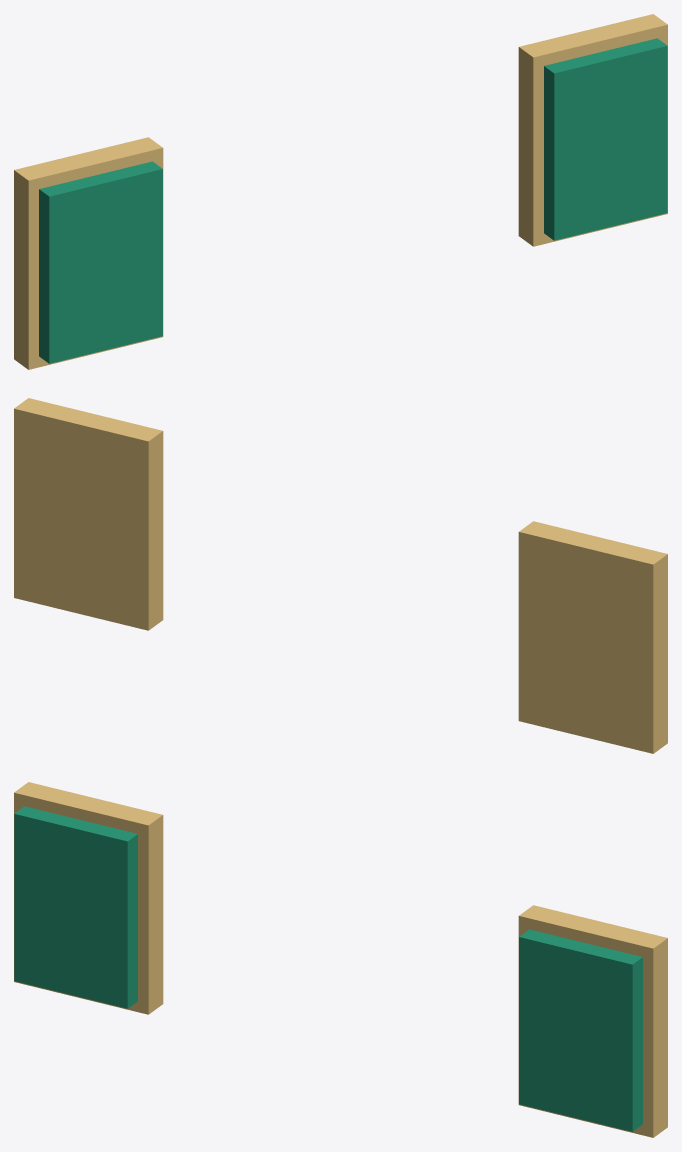
3 renders of one model, top to bottom at view 1: azimuth 30°, elevation 25°; view 2: azimuth 150°, elevation 25°; view 3: azimuth 330°, elevation 25°, orthographic.
Size of the model in its own units: 1.52 by 0.43 by 0.1025.
